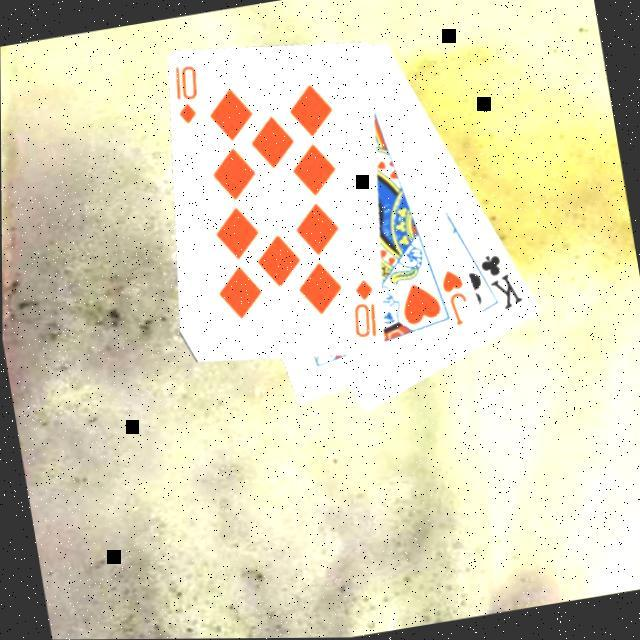10D: (168, 59, 208, 129), (344, 276, 384, 344)
JH: (436, 264, 474, 331)
KC: (468, 246, 528, 317)
